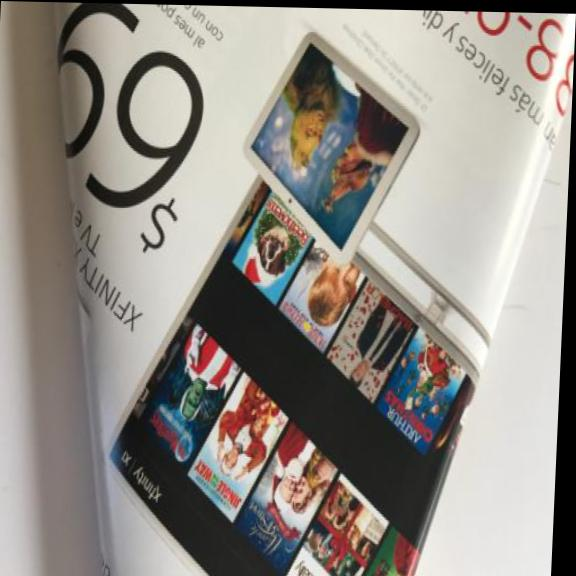Kertas: (29, 1, 572, 576)
